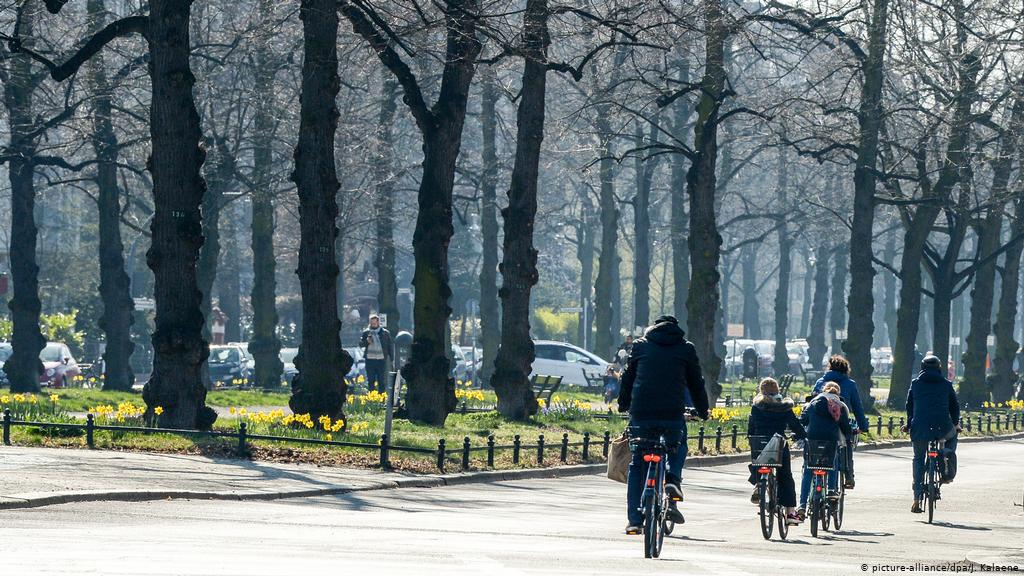commuter: (619, 315, 704, 560), (902, 354, 962, 527), (746, 376, 803, 541), (797, 384, 854, 538)
